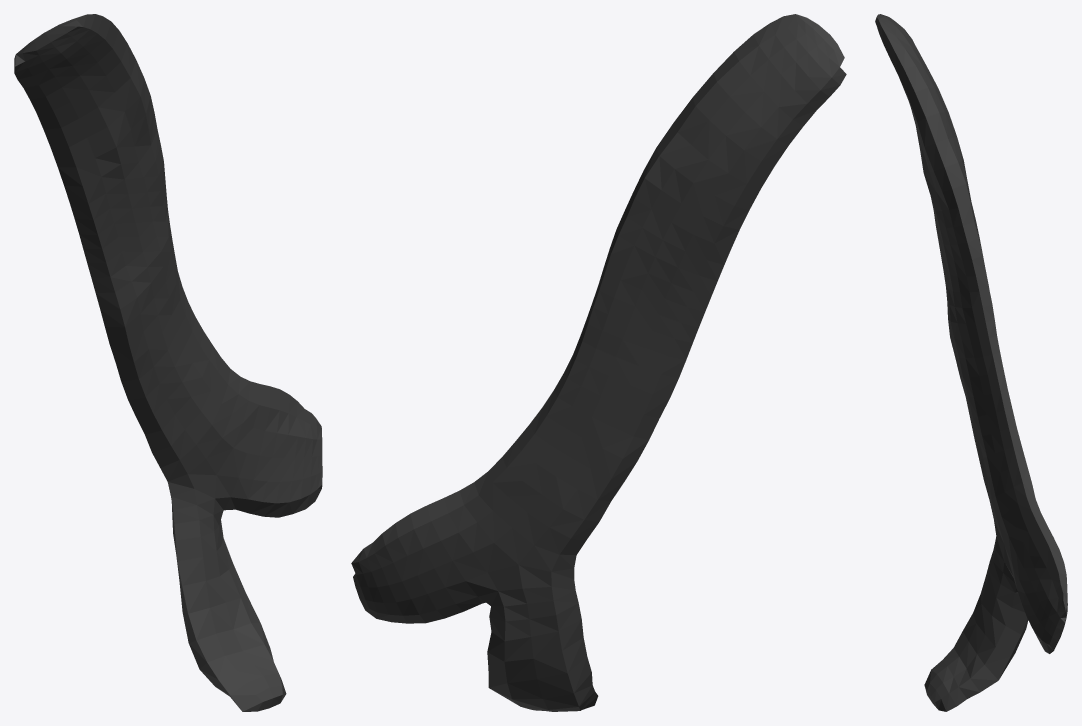
The model's file is Meniscofemoral_ligament.glb.
The picture shows the model from 3 angles, left to right: view 1: azimuth 30°, elevation 25°; view 2: azimuth 150°, elevation 25°; view 3: azimuth 270°, elevation 25°; orthographic projection. The views are drawn at different scales.
Parts seen in each view (by area): view 1: Meniscofemoral_ligament; view 2: Meniscofemoral_ligament; view 3: Meniscofemoral_ligament.
Part boxes in pixels (x1,y1,x2,y2): Meniscofemoral_ligament: (14,14,322,711); Meniscofemoral_ligament: (351,14,846,711); Meniscofemoral_ligament: (875,14,1067,711).
Size of the model in its own units: 0.1426 by 0.2519 by 0.073.
1 material, 1 textured.
